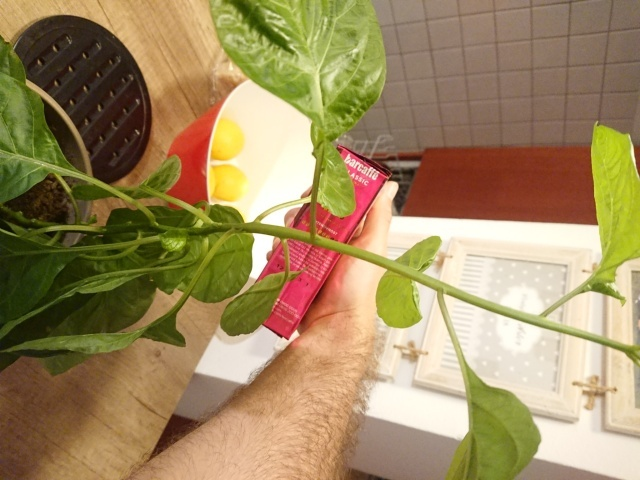Barcaffe Classic Original 225g: (241, 142, 395, 343)
